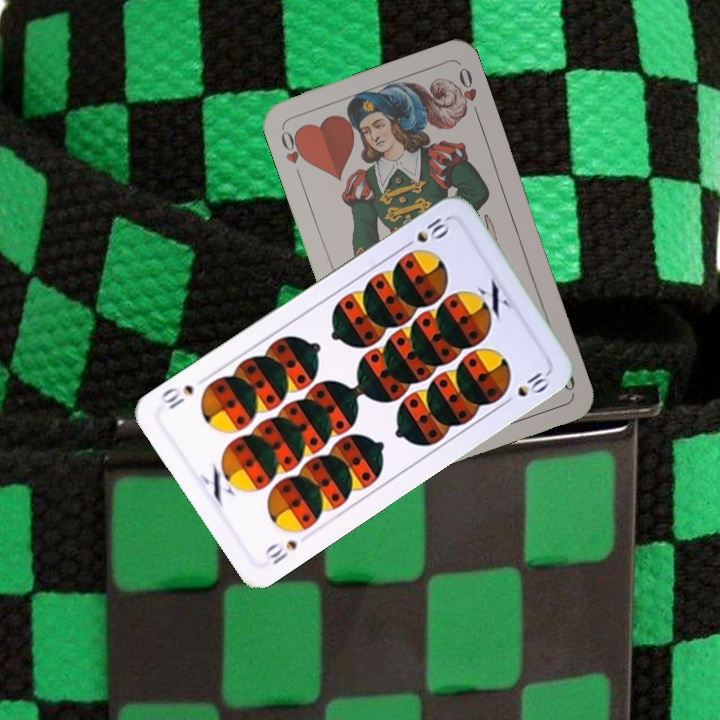HO: (277, 125, 310, 182)
S10: (398, 213, 453, 252), (260, 536, 300, 568)
